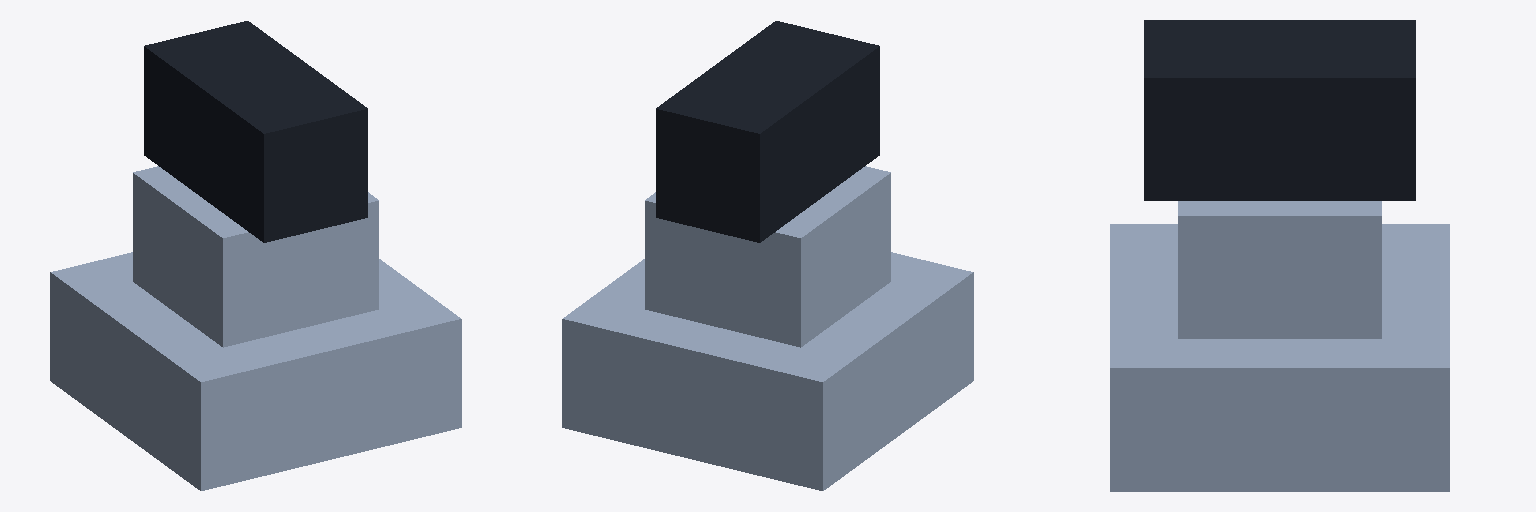
robot.urdf — pan_tilt:
<?xml version="1.0"?>
<!-- Template of the robot builder (RFC 0016): a pan-tilt head with a camera on a fixed base (the
     root link "world" bolts it to the ground). Sizes, densities, limits, efforts and speeds
     are illustrative; edit them. -->
<robot name="pan_tilt">
  <material name="builder_color_1">
    <color rgba="0.66 0.72 0.81 1"/>
  </material>
  <material name="builder_color_2">
    <color rgba="0.16 0.18 0.22 1"/>
  </material>
  <link name="world">
  </link>
  <link name="base_link" lagrange_density="2700">
    <inertial lagrange_overrides="">
      <origin xyz="0 0 0.02"/>
      <mass value="1.08"/>
      <inertia ixx="0.0010440000000000004" ixy="0" ixz="0" iyy="0.0010440000000000004" iyz="0" izz="0.0018000000000000004"/>
    </inertial>
    <visual>
      <origin xyz="0 0 0.02" rpy="0 0 0"/>
      <geometry><box size="0.1 0.1 0.04"/></geometry>
      <material name="builder_color_1"/>
    </visual>
    <collision>
      <origin xyz="0 0 0.02" rpy="0 0 0"/>
      <geometry><box size="0.1 0.1 0.04"/></geometry>
    </collision>
  </link>
  <link name="pan_link" lagrange_density="1240">
    <inertial lagrange_overrides="">
      <origin xyz="0 0 0.02"/>
      <mass value="0.17856"/>
      <inertia ixx="7.7376e-05" ixy="0" ixz="0" iyy="7.7376e-05" iyz="0" izz="0.00010713599999999999"/>
    </inertial>
    <visual>
      <origin xyz="0 0 0.02" rpy="0 0 0"/>
      <geometry><box size="0.06 0.06 0.04"/></geometry>
      <material name="builder_color_1"/>
    </visual>
    <collision>
      <origin xyz="0 0 0.02" rpy="0 0 0"/>
      <geometry><box size="0.06 0.06 0.04"/></geometry>
    </collision>
  </link>
  <link name="tilt_link" lagrange_density="1240">
    <inertial lagrange_overrides="">
      <origin xyz="0 0 0"/>
      <mass value="0.15872000000000003"/>
      <inertia ixx="0.00010581333333333335" ixy="0" ixz="0" iyy="4.232533333333334e-05" iyz="0" izz="0.00010581333333333335"/>
    </inertial>
    <visual>
      <geometry><box size="0.04 0.08 0.04"/></geometry>
      <material name="builder_color_2"/>
    </visual>
    <collision>
      <geometry><box size="0.04 0.08 0.04"/></geometry>
    </collision>
  </link>
  <joint name="base_joint" type="fixed">
    <parent link="world"/>
    <child link="base_link"/>
    <origin xyz="0 0 0" rpy="0 0 0"/>
  </joint>
  <joint name="pan_joint" type="revolute">
    <parent link="base_link"/>
    <child link="pan_link"/>
    <origin xyz="0 0 0.04" rpy="0 0 0"/>
    <axis xyz="0 0 1"/>
    <limit lower="-2.9" upper="2.9" effort="2" velocity="3"/>
  </joint>
  <joint name="tilt_joint" type="revolute">
    <parent link="pan_link"/>
    <child link="tilt_link"/>
    <origin xyz="0 0 0.06" rpy="0 0 0"/>
    <axis xyz="0 1 0"/>
    <limit lower="-0.8" upper="1" effort="2" velocity="3"/>
  </joint>
  <gazebo reference="tilt_link">
    <sensor name="camera" type="camera">
      <pose>0.02 0 0 0 0 0</pose>
      <update_rate>15</update_rate>
      <camera>
        <horizontal_fov>1.2</horizontal_fov>
        <image>
          <height>480</height>
          <width>640</width>
        </image>
      </camera>
    </sensor>
  </gazebo>
</robot>

--- Render facts (derived) ---
3 views of the same robot in one strip: view 1: azimuth 30°, elevation 25°; view 2: azimuth 150°, elevation 25°; view 3: azimuth 270°, elevation 25° (orthographic).
Robot: pan_tilt — 4 links, 3 joints (2 revolute, 1 fixed); root link world; default pose: all joints at 0.
Visible links, largest first — view 1: base_link, tilt_link, pan_link; view 2: base_link, tilt_link, pan_link; view 3: base_link, tilt_link, pan_link.
Boxes of the visible links, x1,y1,x2,y2 form: base_link: (50, 252, 461, 490); tilt_link: (144, 21, 367, 242); pan_link: (133, 166, 378, 347); base_link: (562, 252, 973, 490); tilt_link: (656, 21, 879, 242); pan_link: (645, 166, 890, 347); base_link: (1110, 224, 1449, 491); tilt_link: (1144, 20, 1415, 200); pan_link: (1178, 201, 1381, 338).
Bounding box of the posed robot: 0.1 × 0.1 × 0.12 m (x, y, z).
Geometry: primitives only (box / cylinder / sphere), no mesh files.
